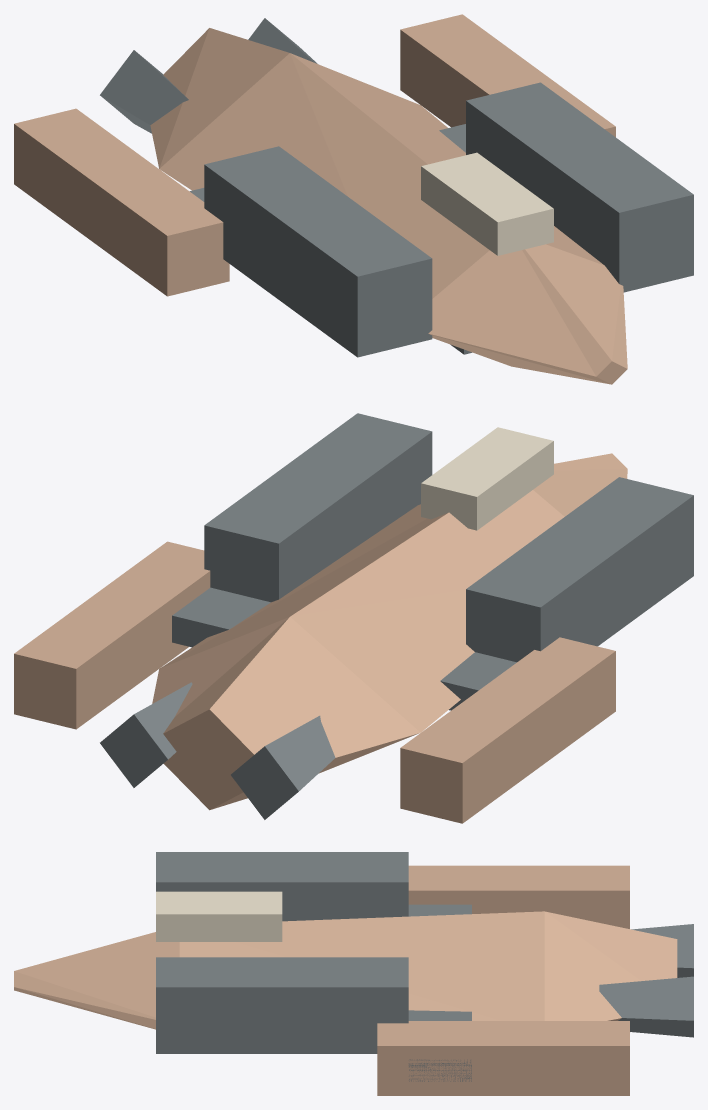
3 views of the same model, one above another, from view 1: azimuth 30°, elevation 25°; view 2: azimuth 150°, elevation 25°; view 3: azimuth 270°, elevation 25° (orthographic). The views are drawn at different scales.
Size of the model in its own units: 2.62 by 0.9964 by 4.18.
